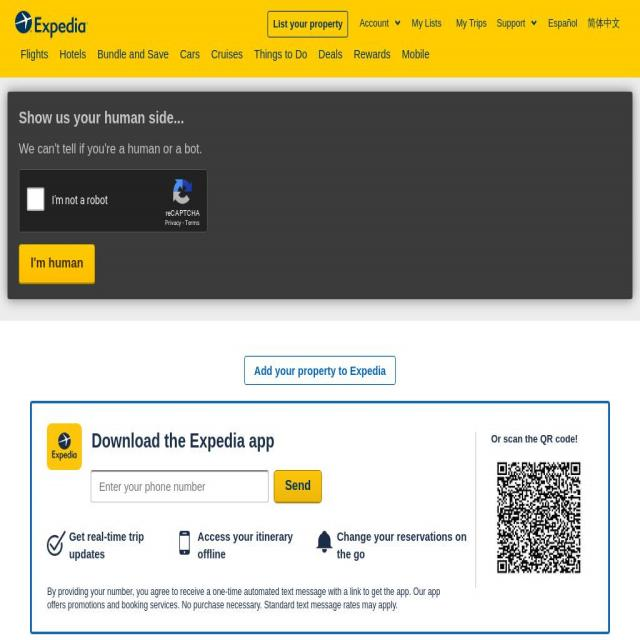captcha: (19, 162, 232, 302)
field: (89, 458, 331, 512)
language: (547, 10, 624, 46)
navigation-links: (13, 0, 636, 73)
